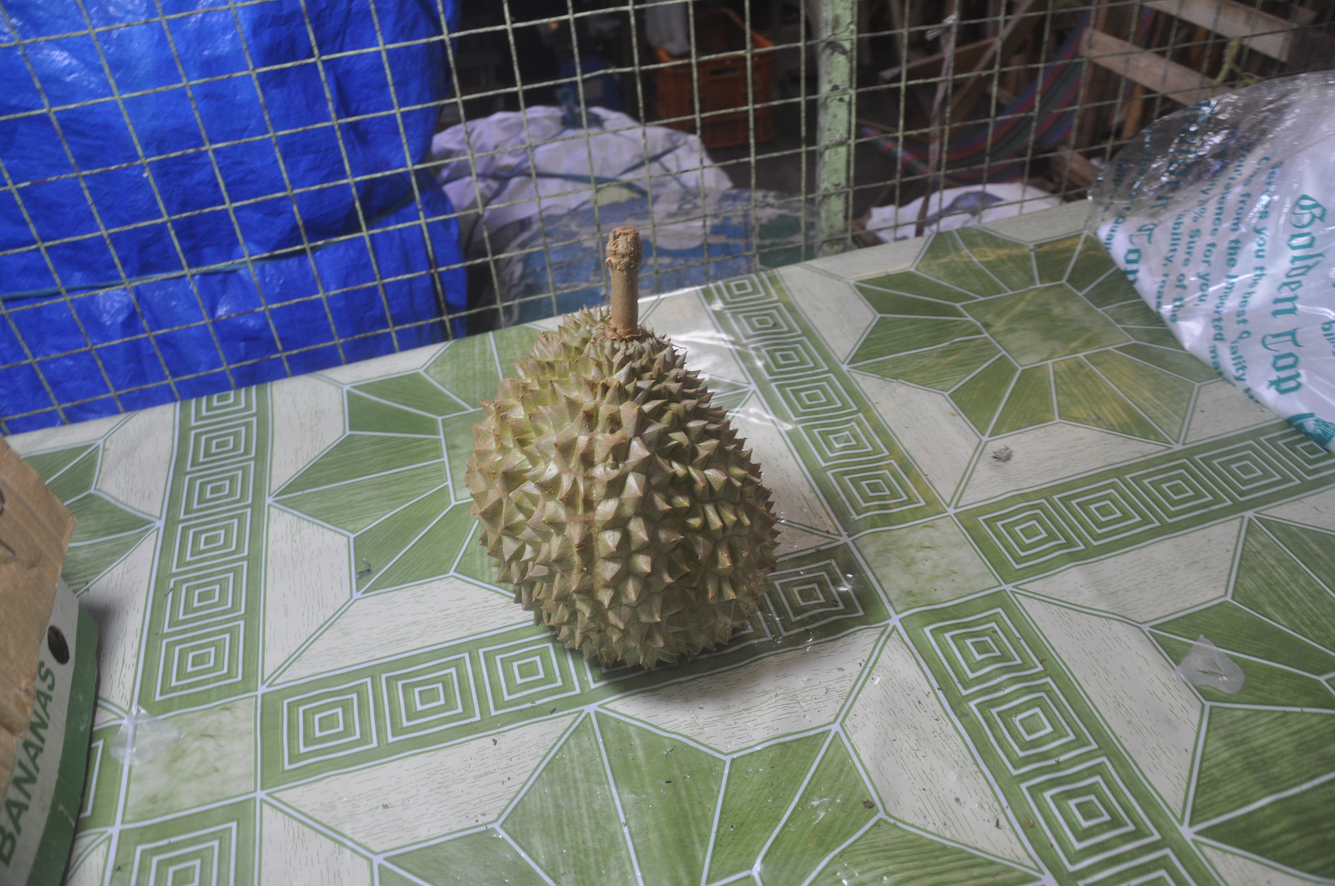mature: (466, 308, 777, 668)
